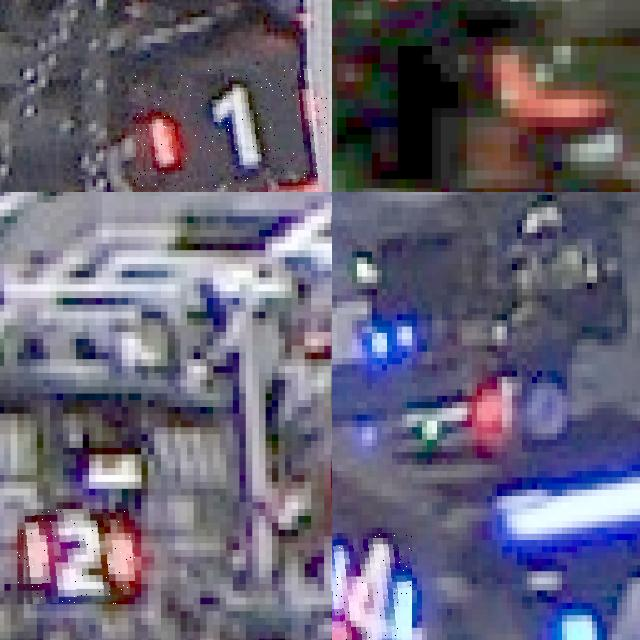B4: (332, 533, 412, 640), (557, 571, 640, 640)
R1: (134, 68, 326, 192)
R2: (17, 509, 135, 604)
